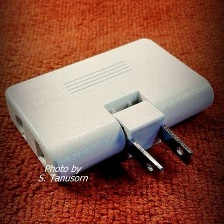three_eye_plug: (3, 32, 218, 192)
